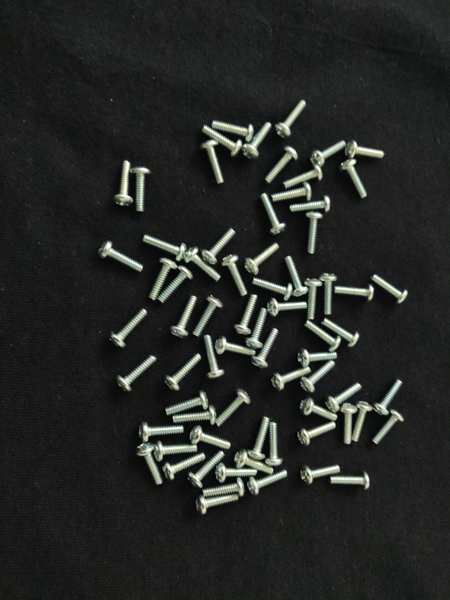shortscrew: (288, 310, 345, 353), (200, 390, 252, 431), (270, 95, 314, 143), (110, 356, 162, 395), (361, 264, 409, 306), (164, 349, 208, 393), (292, 358, 339, 399), (108, 307, 154, 348), (102, 155, 136, 209), (198, 226, 242, 267), (97, 241, 149, 275), (155, 266, 198, 306), (226, 289, 259, 341), (256, 144, 298, 184), (182, 453, 226, 491), (163, 449, 214, 481), (367, 409, 404, 453), (377, 369, 410, 418), (192, 123, 244, 154), (198, 333, 227, 388), (326, 376, 366, 415), (333, 275, 380, 308), (341, 154, 370, 207), (126, 162, 152, 221), (243, 241, 284, 278), (133, 442, 163, 491), (287, 464, 350, 487), (293, 419, 342, 448), (320, 318, 363, 351), (188, 494, 246, 518), (128, 423, 193, 444), (153, 396, 215, 418), (141, 231, 188, 260), (244, 411, 271, 461), (189, 249, 228, 283), (260, 418, 283, 475), (205, 118, 257, 143), (298, 211, 326, 257), (198, 476, 251, 500), (261, 183, 318, 205), (249, 278, 297, 304), (246, 114, 274, 158), (259, 194, 288, 235), (220, 258, 249, 299), (204, 136, 225, 192), (311, 135, 353, 163), (278, 165, 326, 189), (314, 270, 337, 319), (279, 194, 337, 213), (216, 335, 254, 364), (289, 349, 349, 367), (150, 257, 172, 306), (283, 249, 305, 298), (351, 402, 373, 451), (300, 398, 343, 422), (300, 274, 321, 322), (345, 139, 388, 162), (271, 369, 317, 390), (215, 462, 261, 482), (186, 434, 242, 450), (167, 406, 222, 422), (337, 401, 355, 448), (324, 474, 380, 489), (150, 444, 204, 458), (215, 465, 261, 481), (253, 473, 283, 491)
